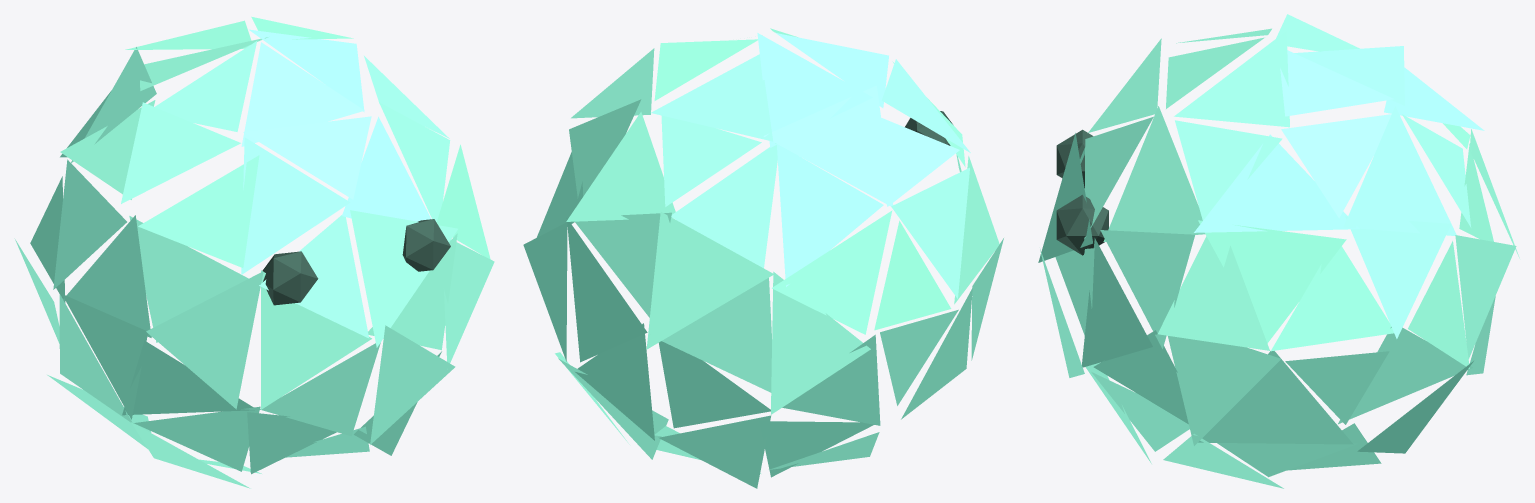
File: enemy_slime.glb
3 renders of one model, left to right at view 1: azimuth 30°, elevation 25°; view 2: azimuth 150°, elevation 25°; view 3: azimuth 270°, elevation 25°, orthographic.
Parts seen in each view (by area): view 1: body, enemy_slime; view 2: body; view 3: body, enemy_slime.
Boxes of the visible parts, <box> form: body: <box>14,16,494,488</box>; enemy_slime: <box>262,219,450,305</box>; body: <box>523,28,1003,488</box>; body: <box>1038,14,1519,488</box>; enemy_slime: <box>1056,129,1108,255</box>.
Size of the model in its own units: 0.926 by 0.9477 by 0.9414.
